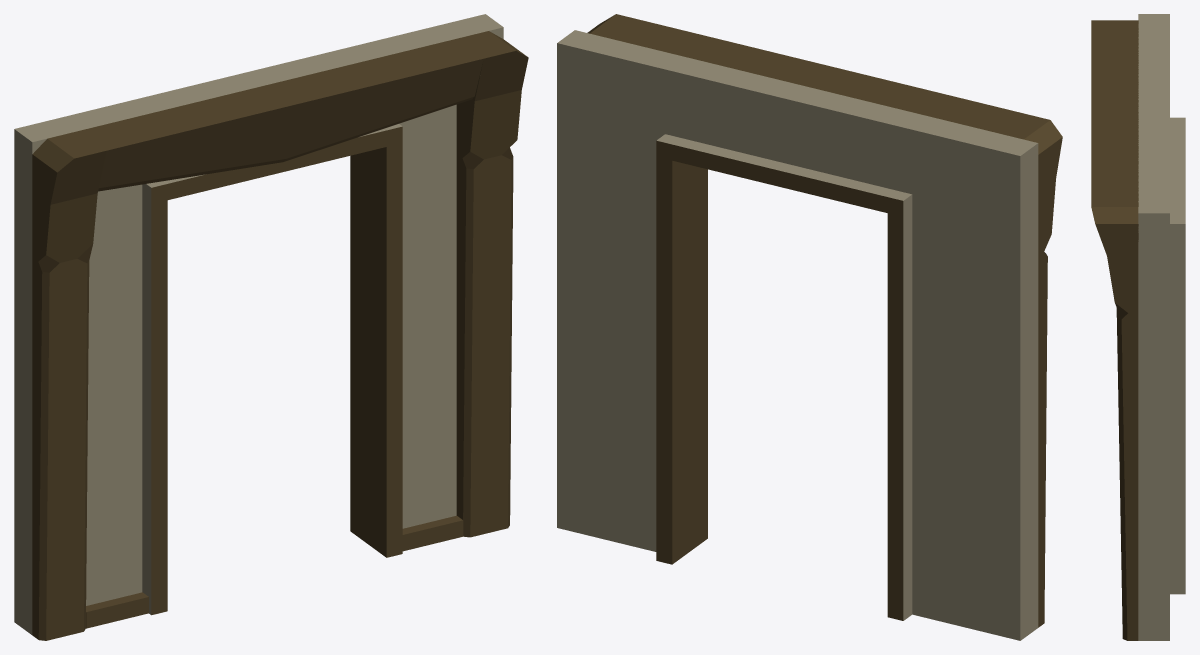
The model's file is fantasy_wall_1_door.fbx.
3 views of the same model, side by side, from view 1: azimuth 30°, elevation 25°; view 2: azimuth 150°, elevation 25°; view 3: azimuth 270°, elevation 25° (orthographic). The views are drawn at different scales.
Visible parts, largest first — view 1: Cube.008; view 2: Cube.008; view 3: Cube.008.
Part boxes in pixels (x1=…): Cube.008: x1=14, y1=14, x2=528, y2=640; Cube.008: x1=557, y1=14, x2=1062, y2=640; Cube.008: x1=1091, y1=14, x2=1185, y2=640.
Size of the model in its own units: 300 by 300 by 60.
